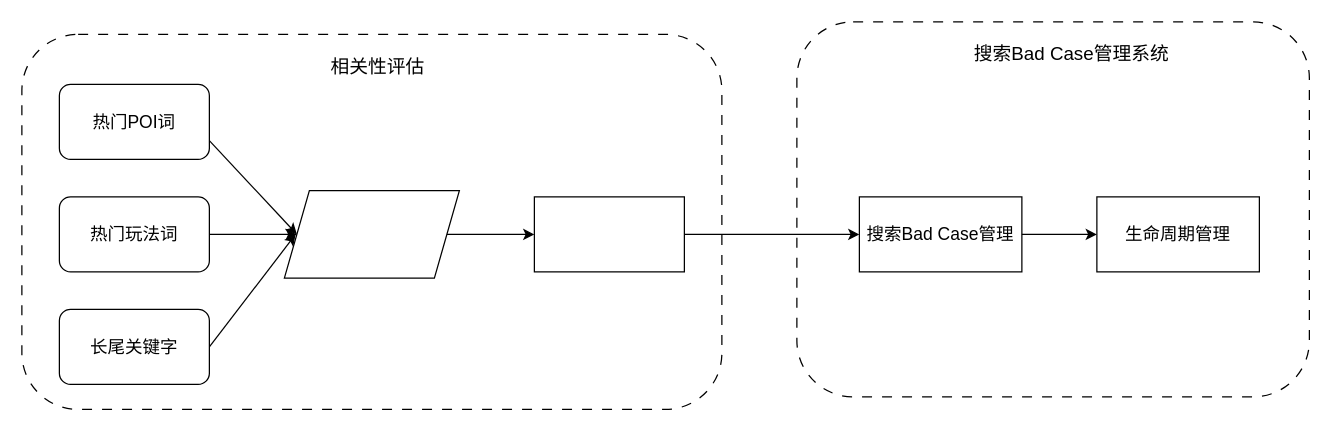
This 1331x431 diagram has some shape labels left out. The shapes that lost their labels are listed below. From the top down, each one's centre as x and y in pixels, then its label:
At point 371,233: "搜词报文".
At point 608,234: "相关性评估系统 (deepSeek)".
